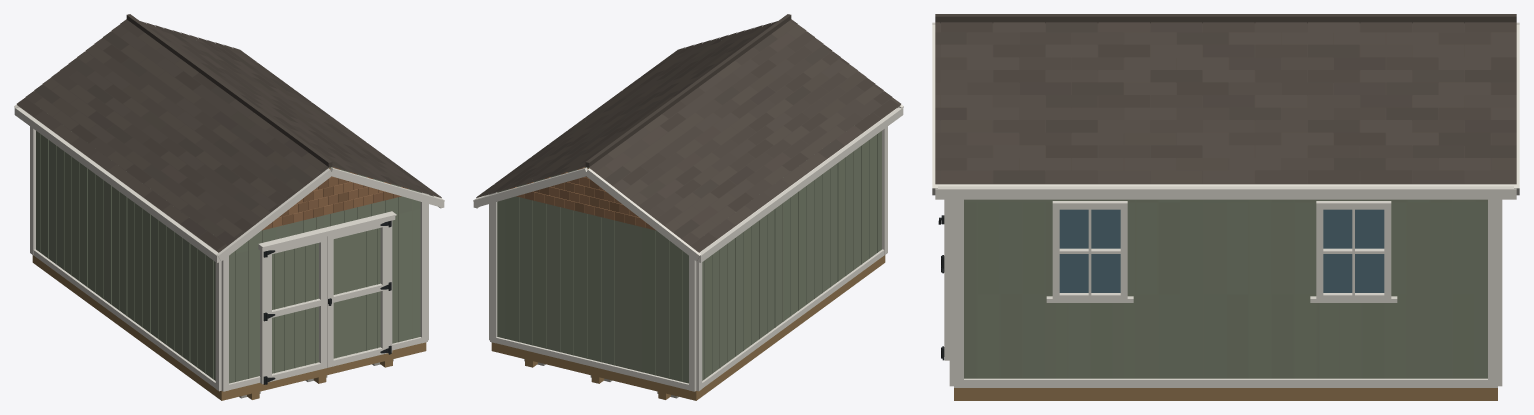
Rendered from 21-craftsman-shake.glb.
The picture shows the model from 3 angles, left to right: view 1: azimuth 30°, elevation 25°; view 2: azimuth 150°, elevation 25°; view 3: azimuth 270°, elevation 25°; orthographic projection. The views are drawn at different scales.
Visible parts, largest first — view 1: Main roof, left wall, front wall double, front wall, Floor platform and skids, Staggered shake accent gables; view 2: Main roof, rear wall, left wall, Floor platform and skids, Staggered shake accent gables; view 3: Main roof, right wall, right wall window, Floor platform and skids, front wall double, front wall, rear wall.
Boxes of the visible parts, bbox=[...] form: Main roof: bbox=[14, 14, 444, 262]; left wall: bbox=[30, 108, 221, 391]; front wall double: bbox=[258, 211, 396, 384]; front wall: bbox=[221, 167, 427, 391]; Floor platform and skids: bbox=[32, 255, 426, 400]; Staggered shake accent gables: bbox=[262, 167, 407, 230]; Main roof: bbox=[473, 14, 903, 262]; rear wall: bbox=[490, 167, 696, 391]; left wall: bbox=[696, 108, 887, 391]; Floor platform and skids: bbox=[491, 255, 885, 400]; Staggered shake accent gables: bbox=[510, 167, 655, 230]; Main roof: bbox=[932, 14, 1519, 199]; right wall: bbox=[954, 199, 1497, 387]; right wall window: bbox=[1046, 201, 1397, 302]; Floor platform and skids: bbox=[954, 388, 1497, 400]; front wall double: bbox=[938, 199, 949, 360]; front wall: bbox=[949, 199, 953, 386]; rear wall: bbox=[1498, 199, 1502, 386].
Bounding box in the file's own units: 3.39 × 3.23 × 5.27.
